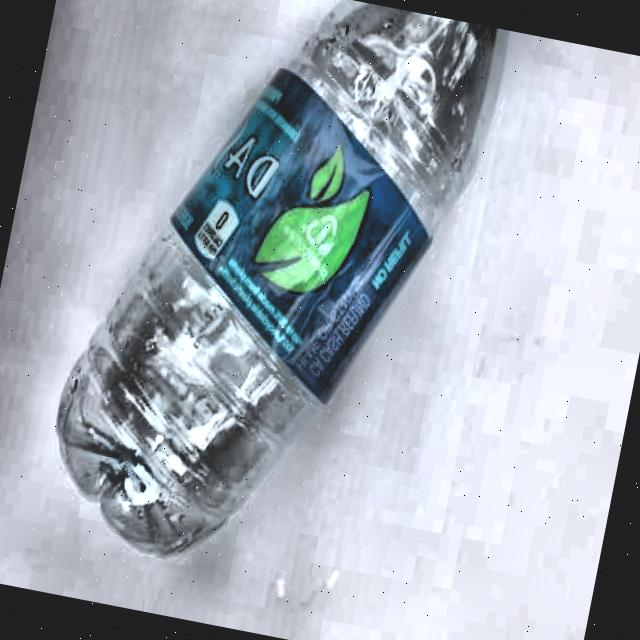plastic: (35, 0, 513, 602)
